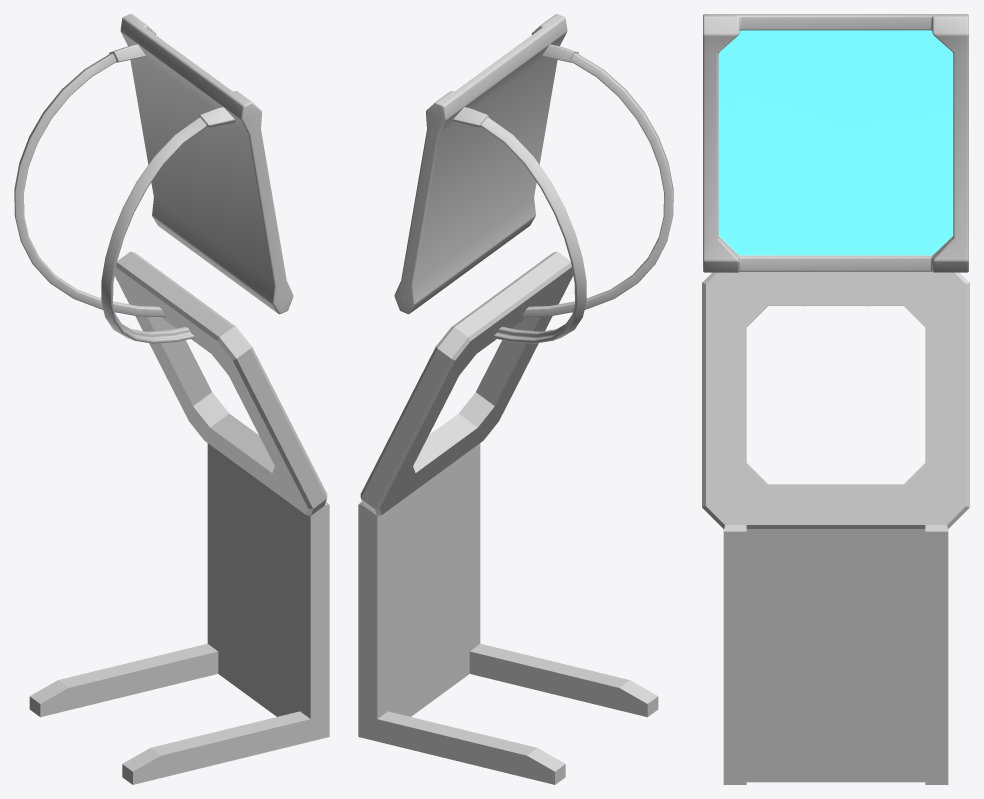
The model's file is medhall terminal.fbx.
3 views of the same model, side by side, from view 1: azimuth 30°, elevation 25°; view 2: azimuth 150°, elevation 25°; view 3: azimuth 270°, elevation 25° (orthographic). The views are drawn at different scales.
Visible parts, largest first — view 1: Plane.001, Plane, NurbsPath; view 2: Plane.001, Plane, NurbsPath; view 3: Plane.001, Plane.
Boxes of the visible parts, x1,y1,x2,y2 form: Plane.001: [29, 251, 329, 784]; Plane: [120, 14, 293, 314]; NurbsPath: [14, 44, 235, 343]; Plane.001: [358, 251, 658, 784]; Plane: [394, 14, 567, 314]; NurbsPath: [452, 44, 673, 343]; Plane.001: [702, 272, 969, 784]; Plane: [703, 14, 968, 272].
Bounding box in the file's own units: 0.5681 × 1.64 × 0.55.
